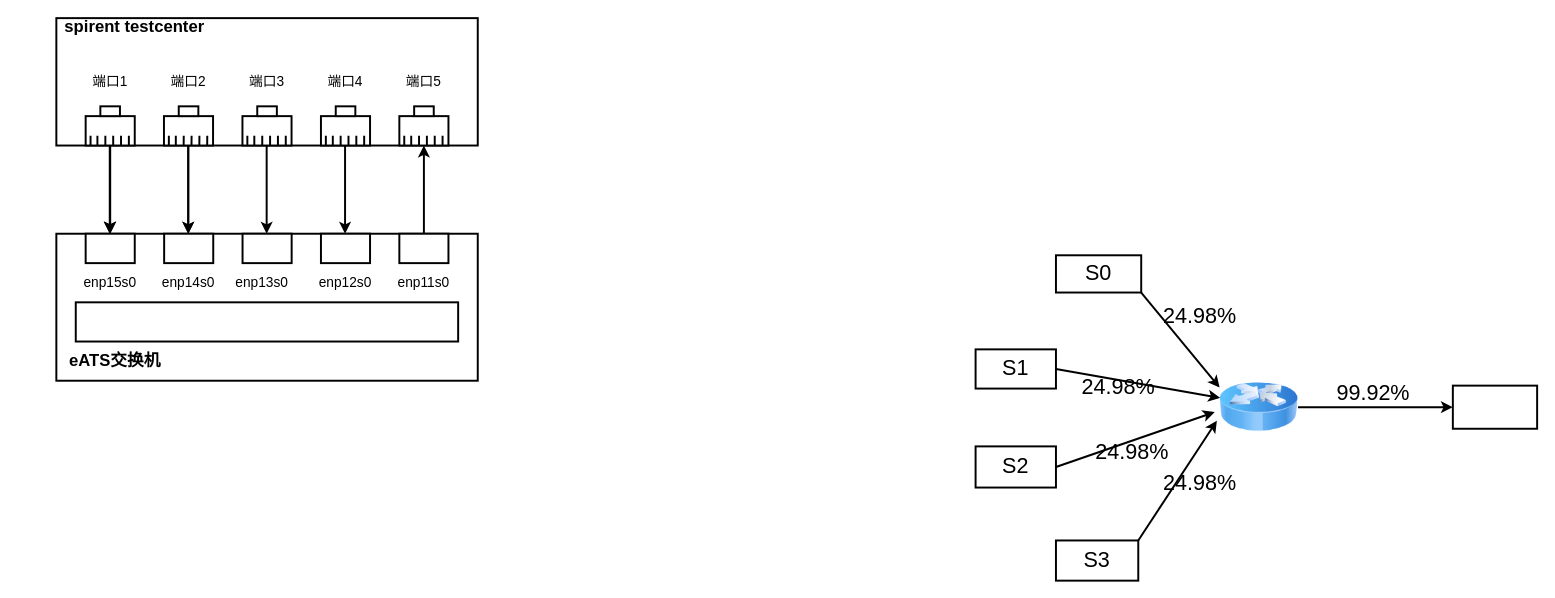
Some shapes in this 1555 by 598 pixel diagram are drawn without their labels. Each missing label, with the box of its shape:
D0: (1451, 384, 1538, 429)
队列及调度算法: (74, 301, 459, 342)
